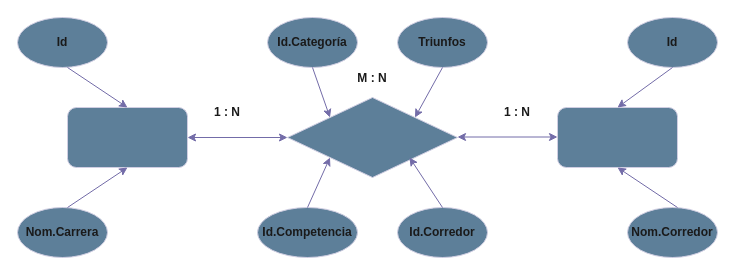
The diagram is 735 pixels wide and 275 high, and some of its shapes have lost their labels. Here are the shapes that lost their labels. From the top down, the centre of each, then its label:
At [127,137]: "Competencia".
At [372,137]: "Participación".
At [617,137]: "Corredor".
